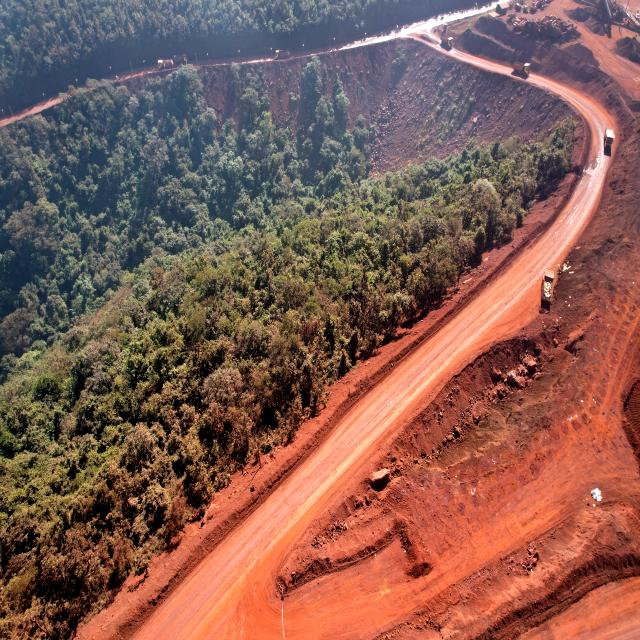Dumper truck: (542, 272, 554, 302), (545, 275, 556, 305), (512, 61, 531, 77), (604, 128, 614, 151), (440, 31, 454, 47), (158, 58, 174, 69), (276, 46, 290, 58), (173, 54, 187, 64)
